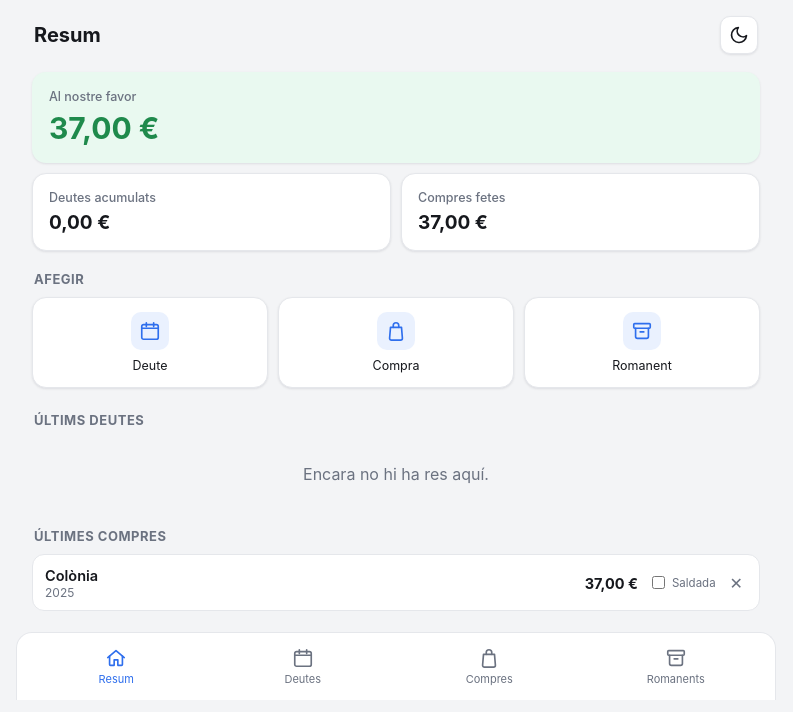
Test case: App (integració) › elimina una entrada després de confirmar-ho
Check: the text "Compres" is shown, box 466,672 -> 513,686
Click the button "Compres": (489,666) 396,641 -> 582,692
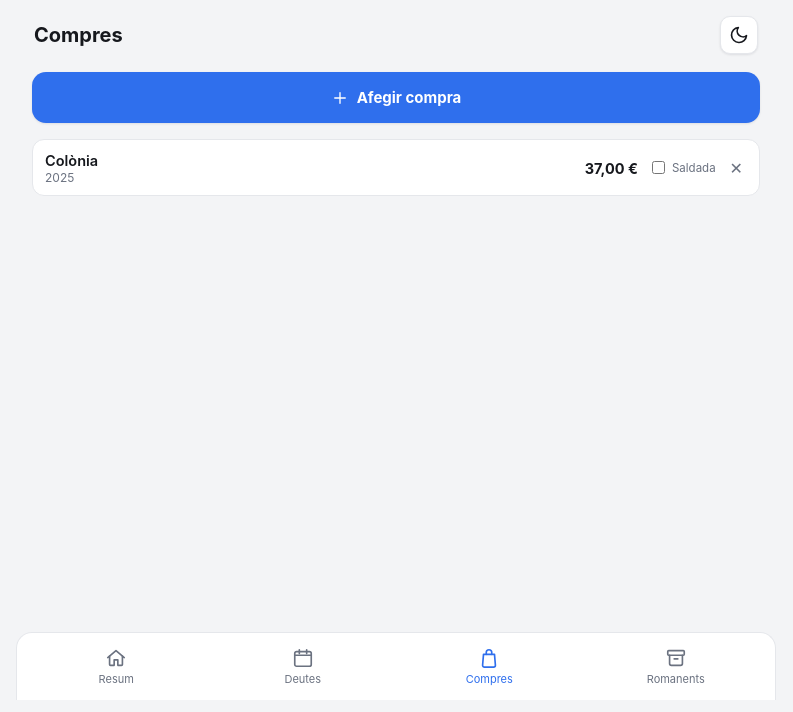
Check: the text "Colònia" is shown, box 45,152 -> 98,169
Click the button titled "Eliminar": (736,168) 726,156 -> 747,180
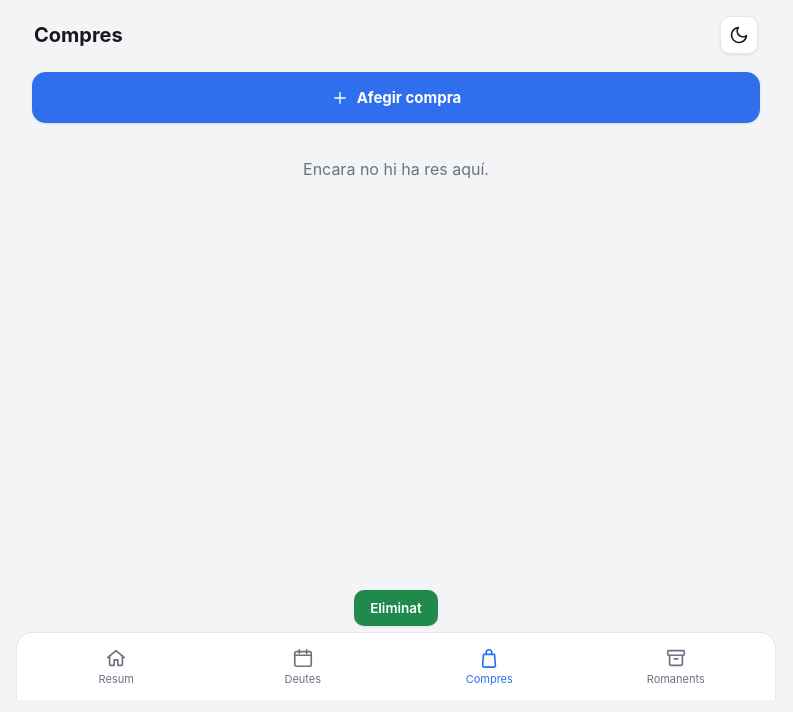
Check: the text "Colònia" is gone
